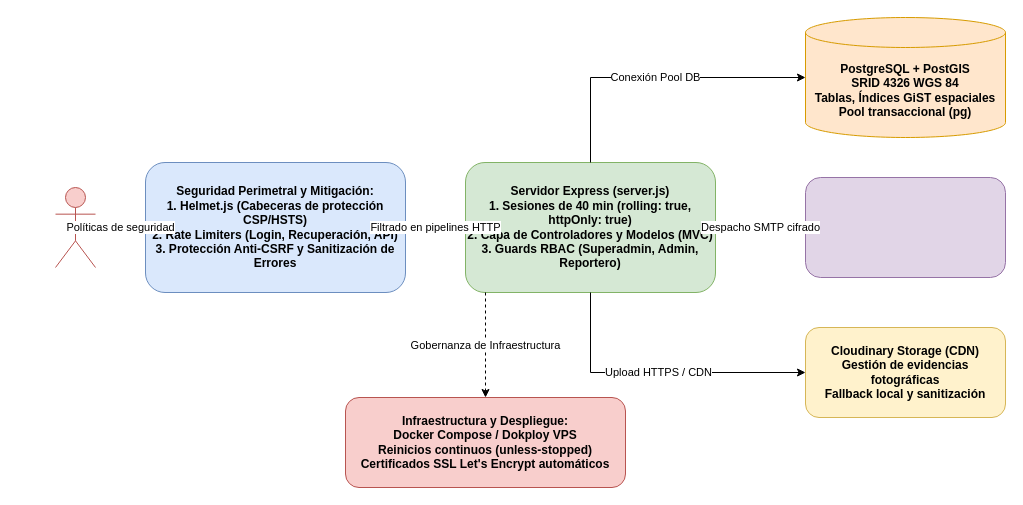
Some shapes in this 1023 by 505 pixel diagram are drawn without their labels. The shapes that lost their labels are listed below. From the top down, each one's box as (x1, y1, x2, y2) in pixels, then its label:
(54, 186, 96, 268): Superadmin / SecOps
(804, 176, 1006, 278): Gmail SMTP / Nodemailer Puerto 587 / TLS seguro Plantillas de bienvenida y reset
